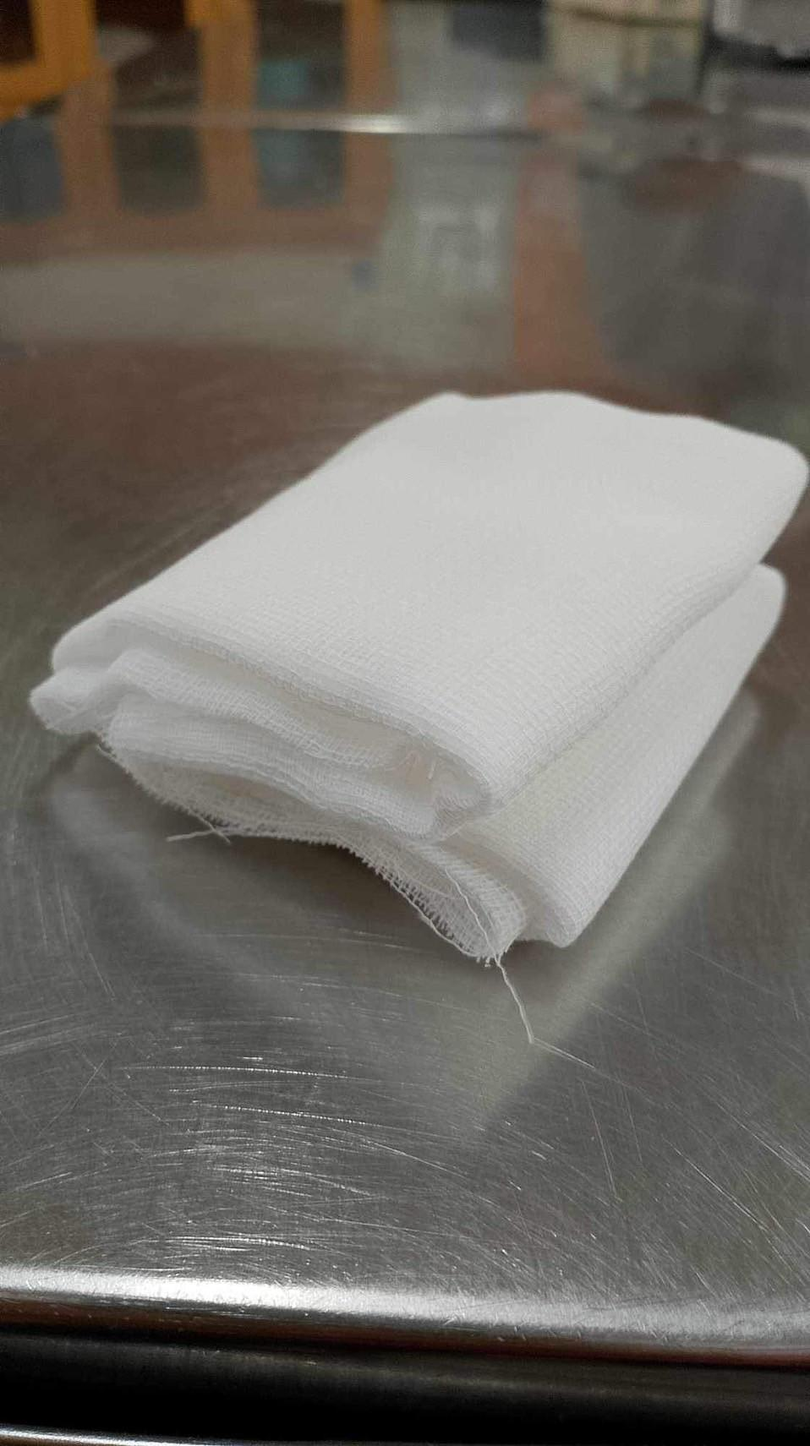General: (4, 7, 806, 1437), (26, 384, 806, 969)
